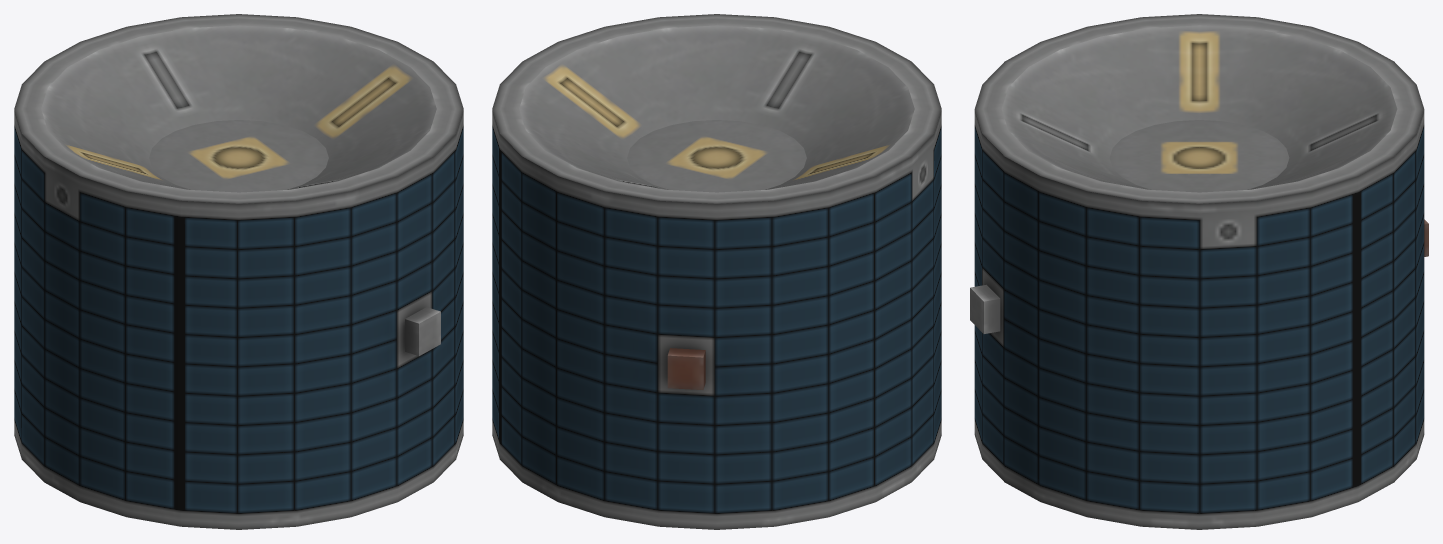
The model's file is lacerta_control_s0_1.obj.
3 renders of one model, left to right at view 1: azimuth 30°, elevation 25°; view 2: azimuth 150°, elevation 25°; view 3: azimuth 270°, elevation 25°, orthographic.
Visible parts, largest first — view 1: mesh; view 2: mesh; view 3: mesh.
Part boxes in pixels (box(x1,y1,x2,y2)): mesh: box(14, 14, 463, 529); mesh: box(492, 14, 941, 529); mesh: box(970, 14, 1428, 529).
Bounding box in the file's own units: 0.625 × 0.5 × 0.6378.
1 material, 1 textured.
